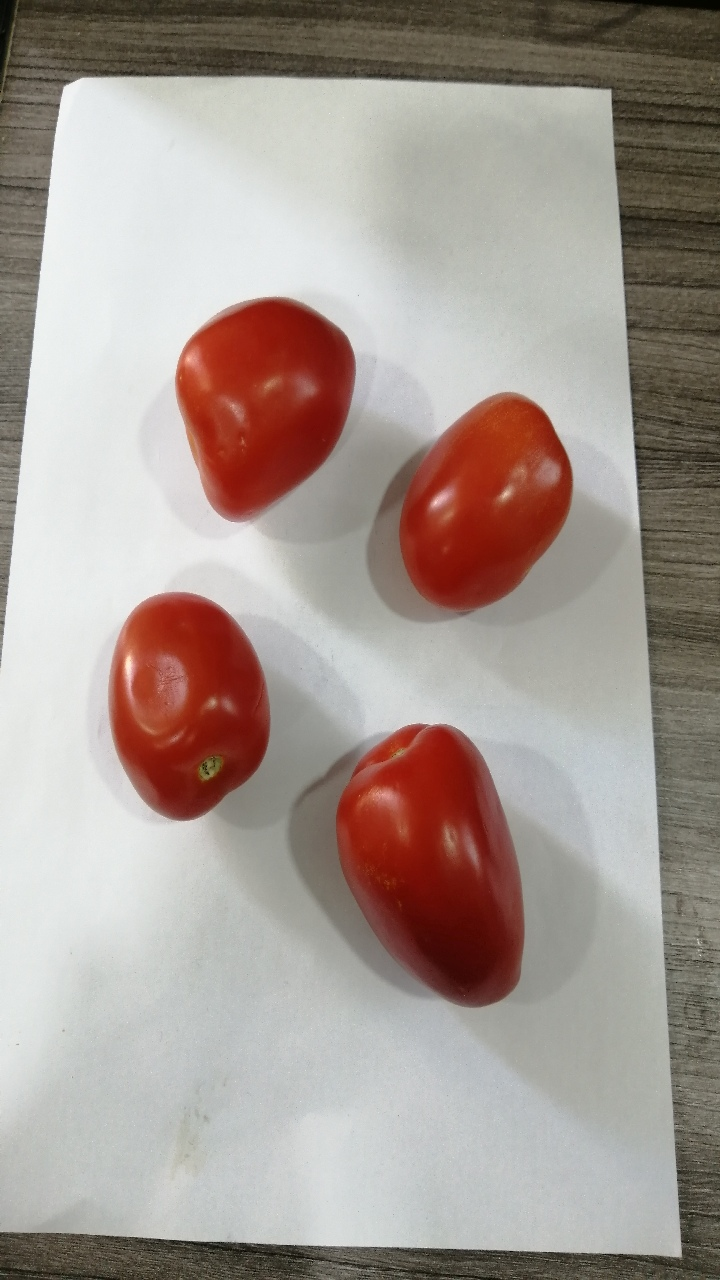tomateRojo: (331, 699, 552, 1043), (161, 272, 371, 537), (92, 577, 294, 839), (392, 355, 580, 634)
